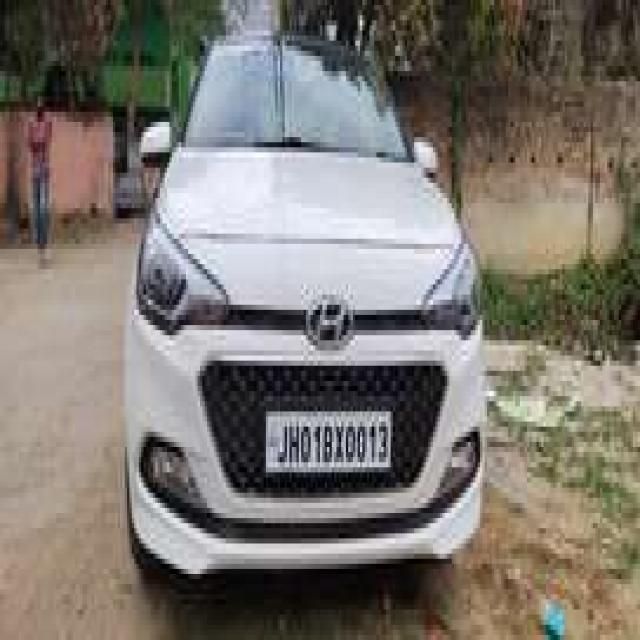Plate: (265, 408, 392, 469)
